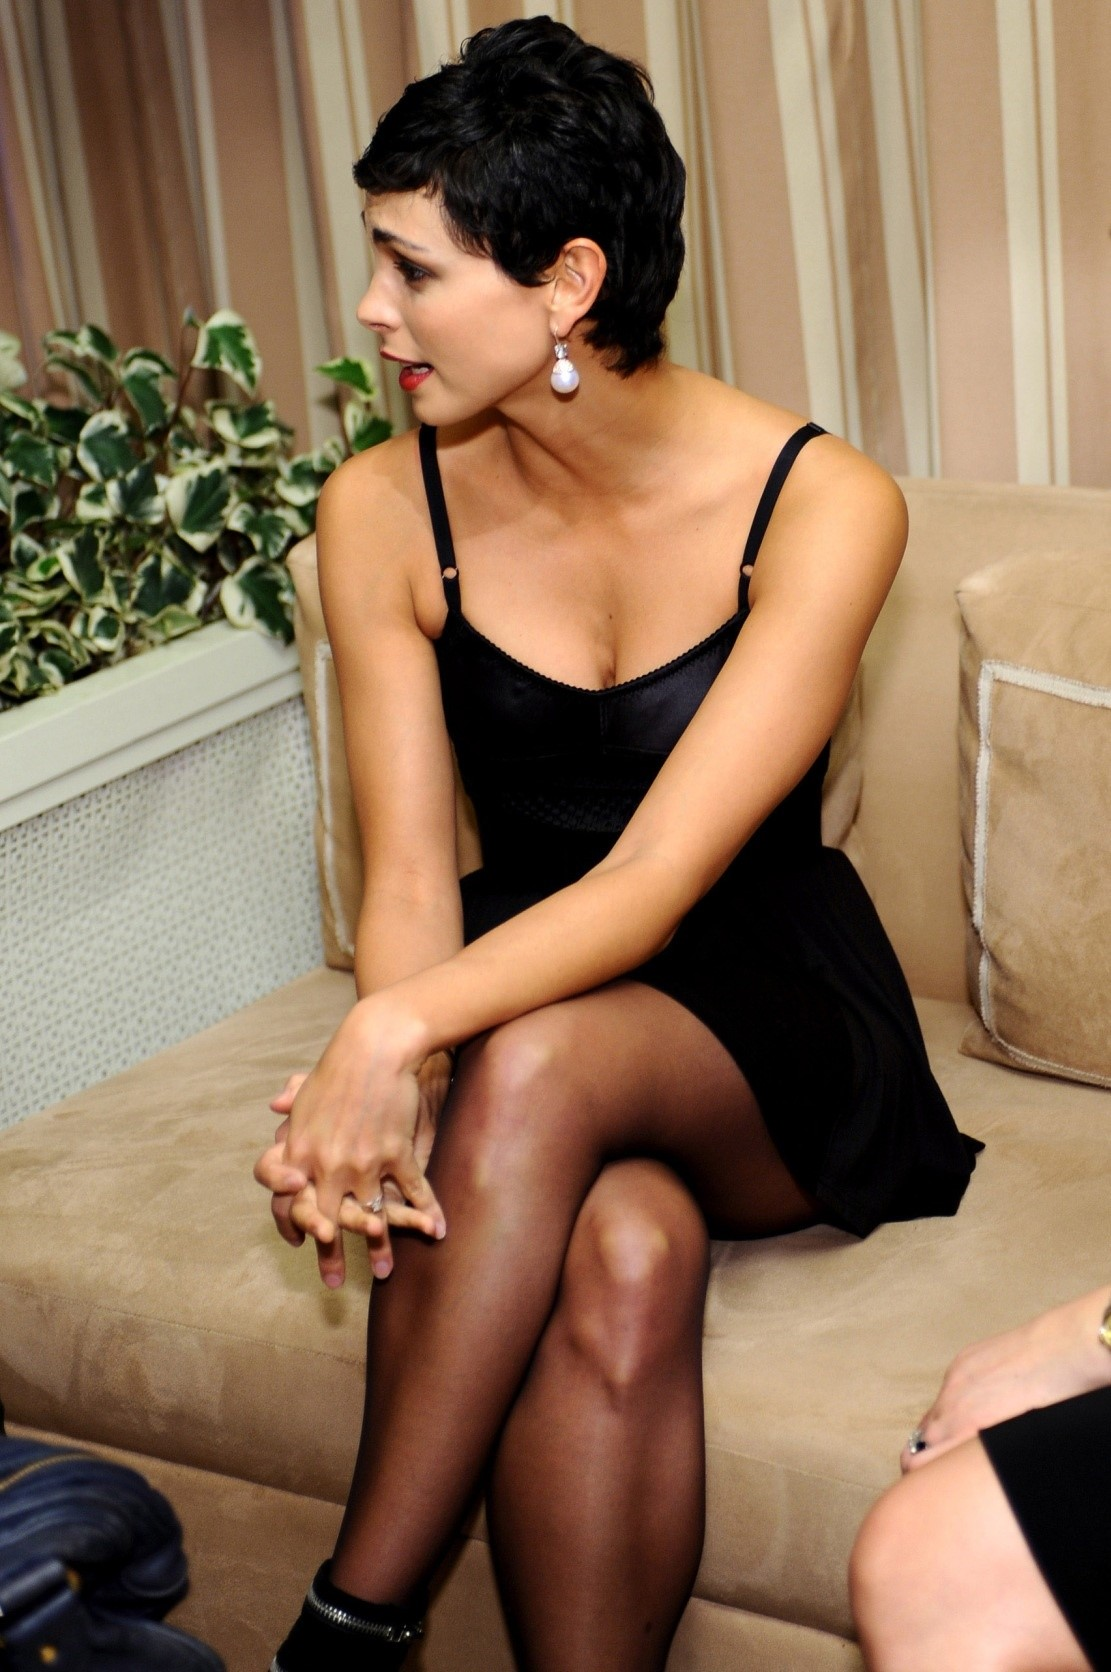face_no_mask: (353, 20, 686, 428)
